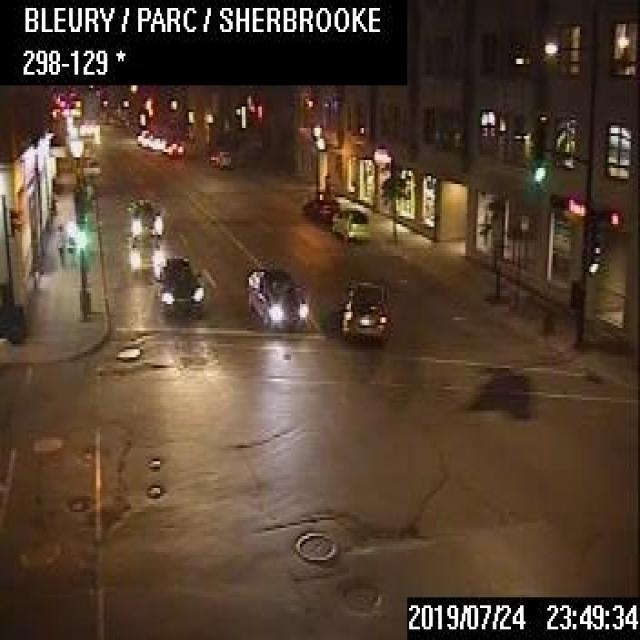pedestrian: (54, 221, 66, 267)
vehicle: (244, 259, 307, 325), (337, 280, 391, 341), (154, 254, 204, 317), (128, 228, 160, 277), (330, 205, 371, 240), (128, 195, 163, 235), (301, 193, 338, 222), (165, 139, 183, 156), (215, 148, 230, 168)
